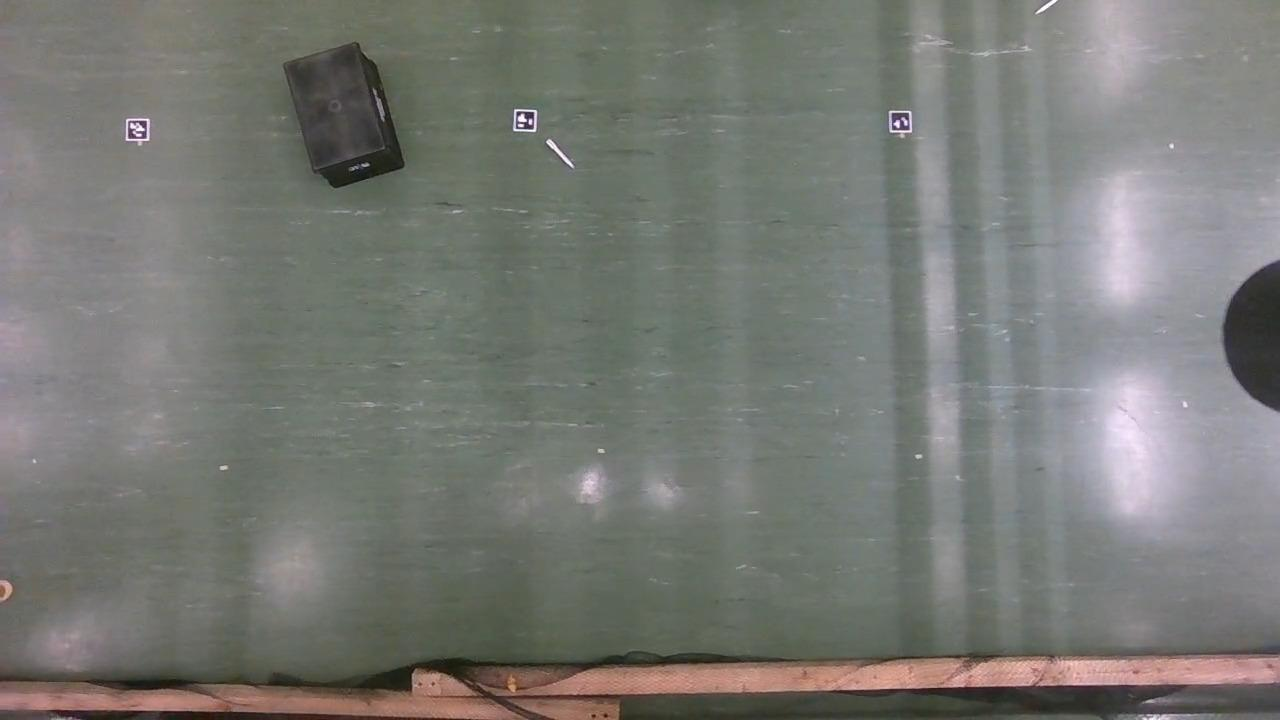probes: (547, 139, 574, 170)
rako: (284, 44, 404, 191)
